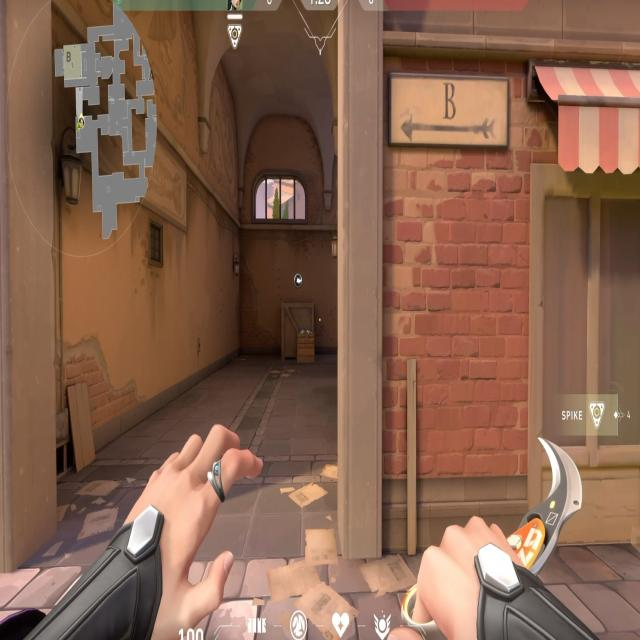B_Main_Wallbang: (259, 261, 308, 353)
